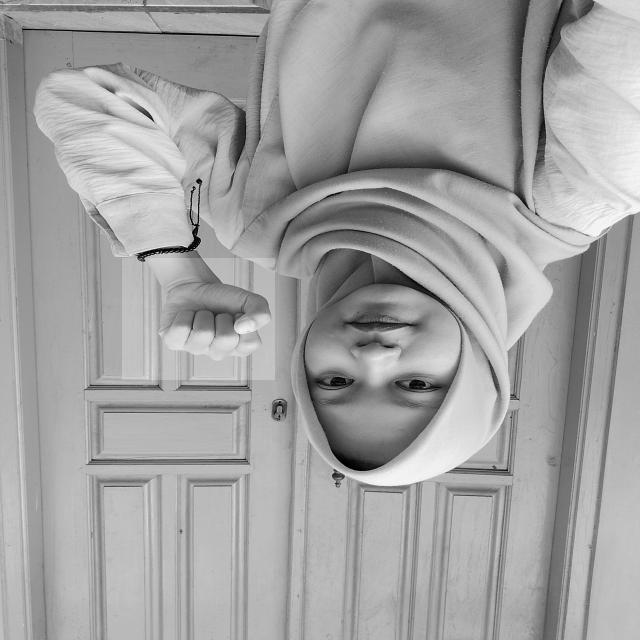baik: (122, 258, 275, 380)
